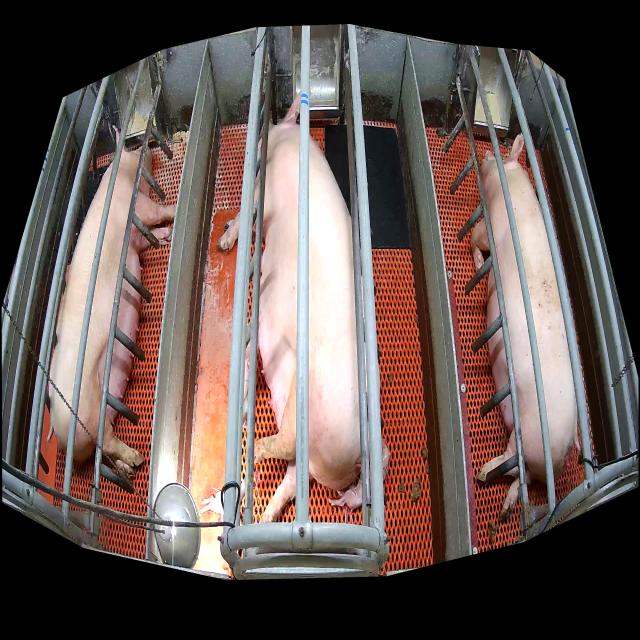pig: (218, 88, 362, 524), (48, 125, 176, 479), (471, 130, 580, 519), (329, 434, 390, 510), (200, 486, 224, 515), (243, 340, 251, 403)
